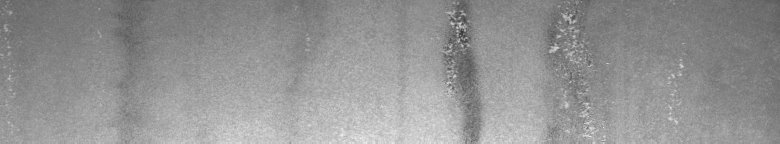hc: (437, 4, 484, 136)
